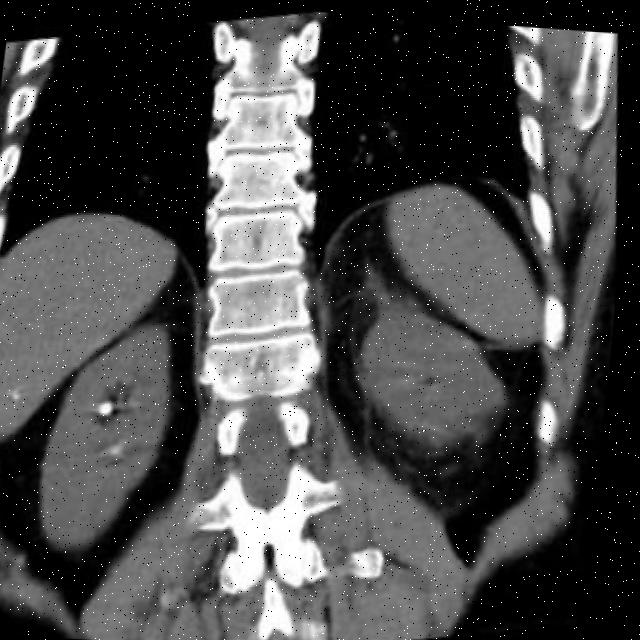Tas_Var: (97, 393, 126, 419)
